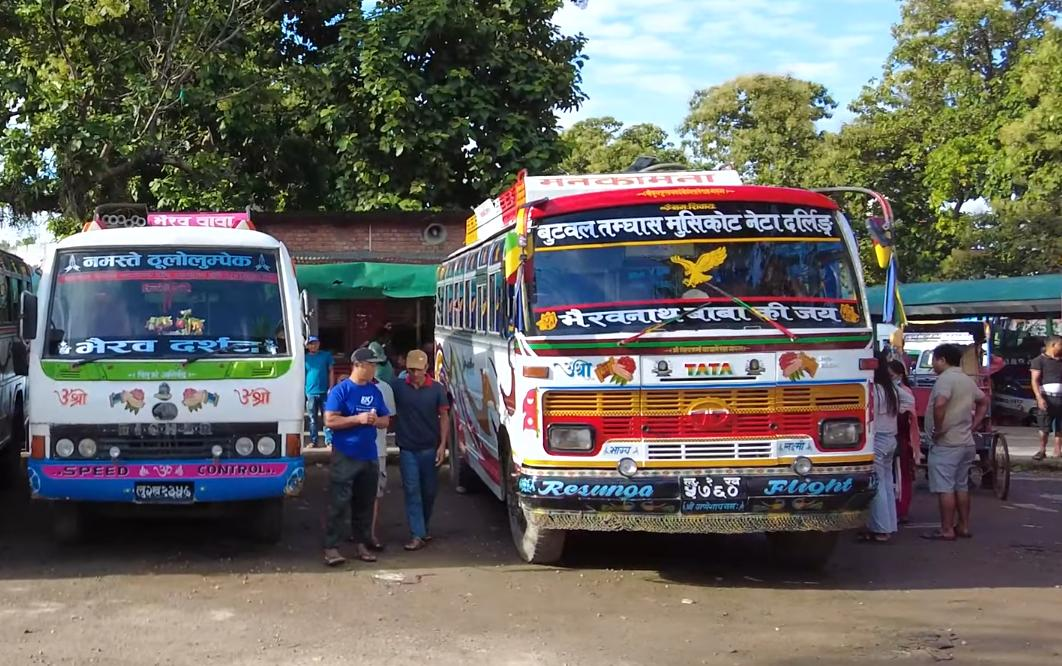bus: (442, 148, 888, 567), (13, 203, 318, 522)
